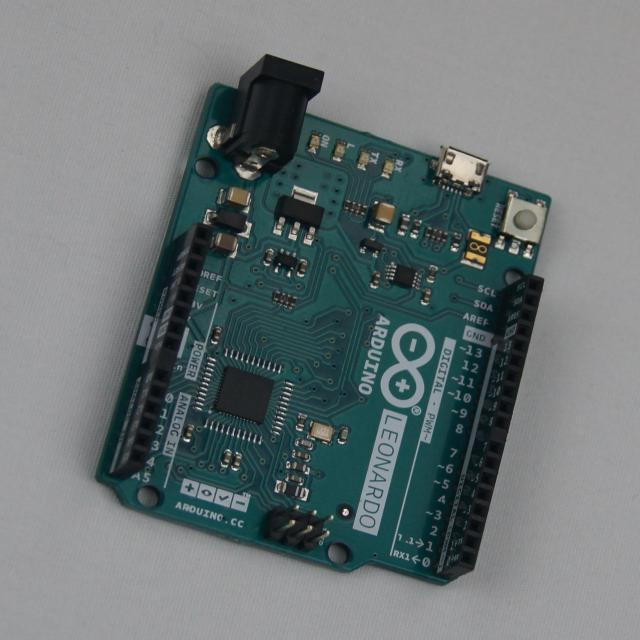Arduino-leonardo: (99, 56, 551, 584)
